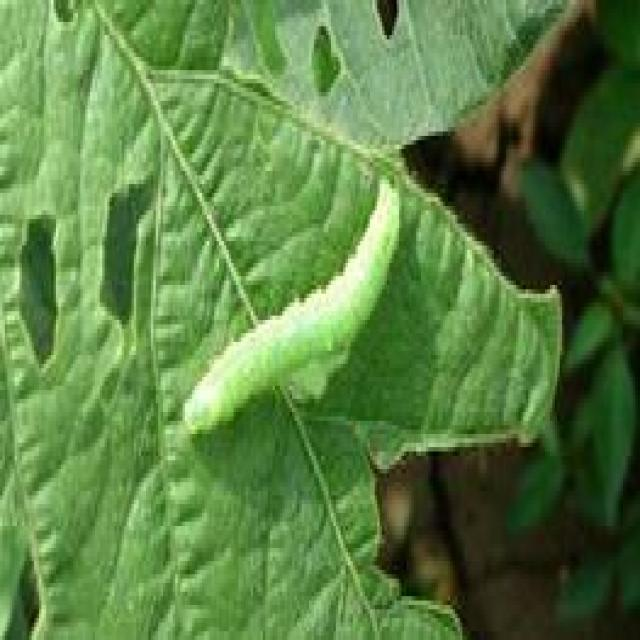armyworm: (179, 171, 409, 441)
